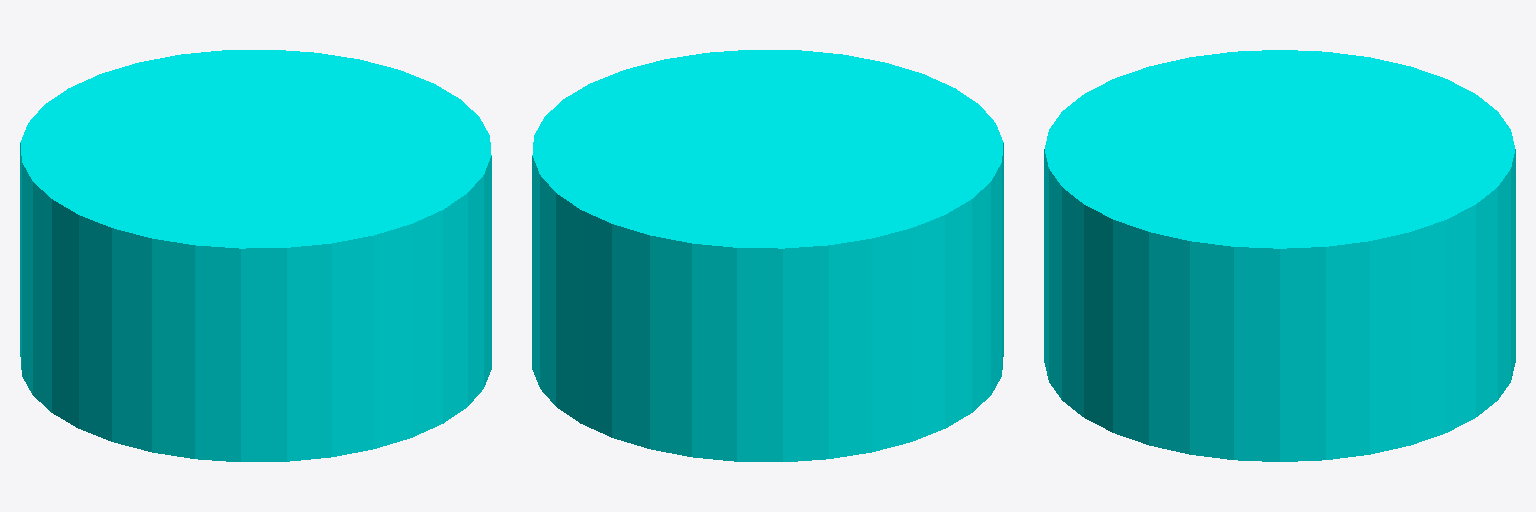
URDF robot description (cylinder):
<?xml version="1.0"?>
<robot name="cylinder">
    <link name="base_link">
        <inertial>
            <origin xyz="0 0 0.5" rpy="0 0 0"/>
            <mass value="1"/>
            <inertia ixx="100" ixy="0" ixz="0" iyy="100" iyz="0" izz="100"/>
        </inertial>
        <visual>
            <origin xyz="0 0 0" rpy="0 0 0"/>
            <geometry>
                <cylinder radius="0.5" length="0.5"/>
            </geometry>
            <material name="Cyan">
                <color rgba="0 1.0 1.0 1.0"/>
            </material>
        </visual>

        <collision>
            <origin xyz="0 0 0" rpy="0 0 0"/>
            <geometry>
                <cylinder radius="0.5" length="0.5"/>
            </geometry>
        </collision>
    </link>
</robot>

--- Facts derived from the render (not from the file) ---
Views: 3 orthographic renders of the robot side by side, from view 1: azimuth 30°, elevation 25°; view 2: azimuth 150°, elevation 25°; view 3: azimuth 270°, elevation 25°.
Model cylinder with 1 links and 0 joints (none), rooted at base_link, posed all joints at 0.
Visible links, largest first — view 1: base_link; view 2: base_link; view 3: base_link.
Link boxes in pixels (x1=…): base_link: x1=20, y1=50, x2=491, y2=461; base_link: x1=532, y1=50, x2=1003, y2=461; base_link: x1=1044, y1=50, x2=1515, y2=461.
Size in the robot's own frame: 1 by 1 by 0.5 metres.
Geometry: primitives only (box / cylinder / sphere), no mesh files.